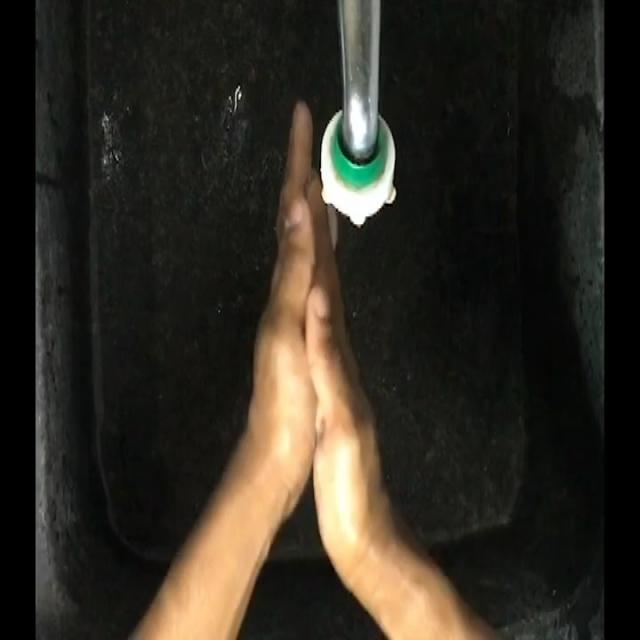step_1: (237, 94, 384, 504)
